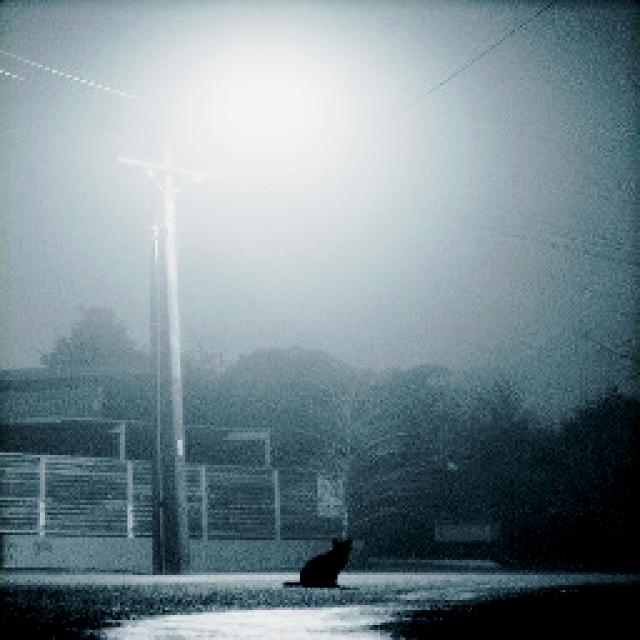cat: (276, 510, 367, 603)
